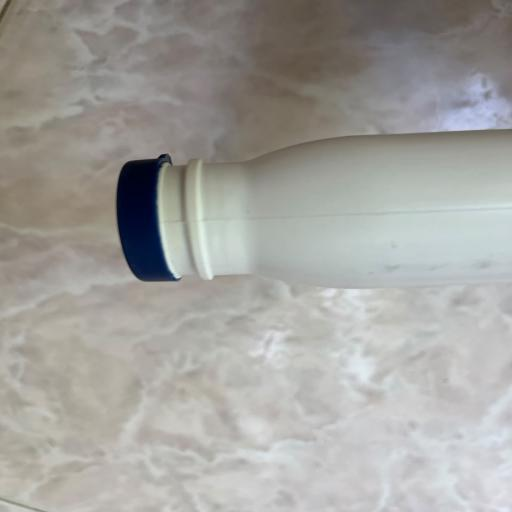HDPE: (98, 120, 512, 329)
